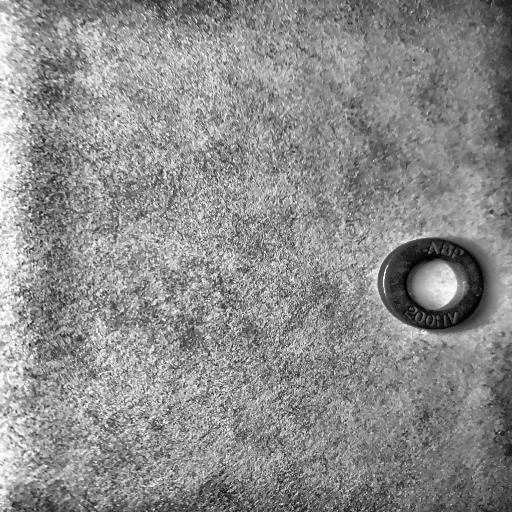Washer: (378, 237, 485, 332)
